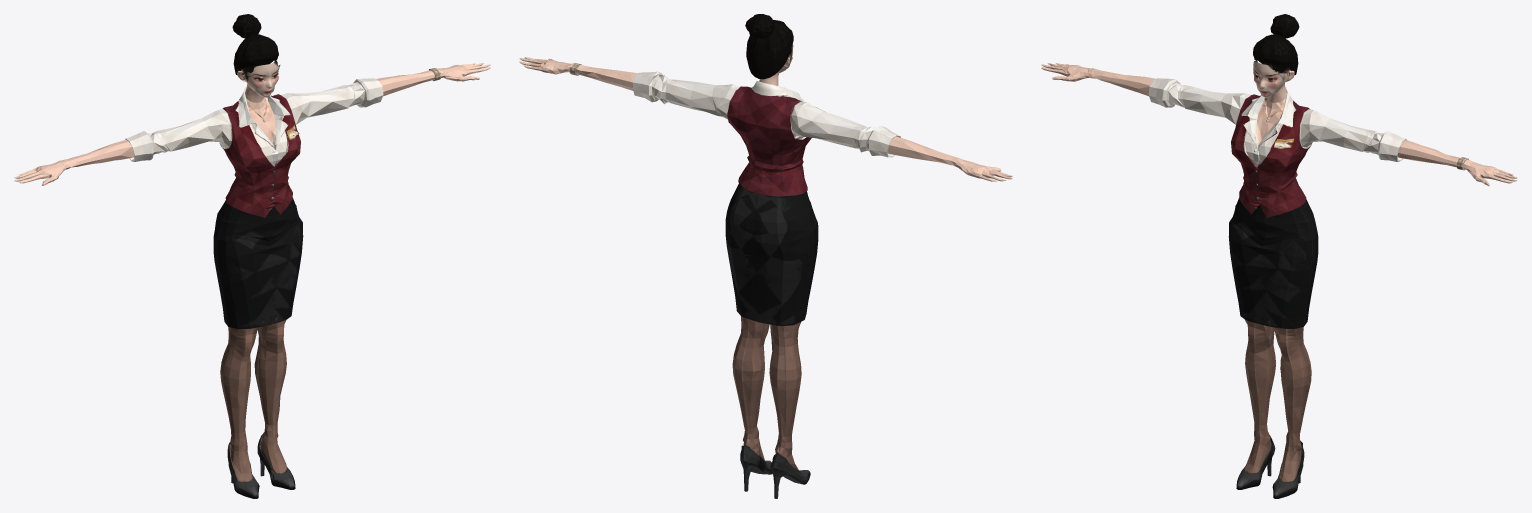
Rendered from Cashier_TPose.glb.
3 renders of one model, left to right at view 1: azimuth 30°, elevation 25°; view 2: azimuth 150°, elevation 25°; view 3: azimuth 330°, elevation 25°, orthographic. The views are drawn at different scales.
Parts seen in each view (by area): view 1: Cashier_TPose; view 2: Cashier_TPose; view 3: Cashier_TPose.
Boxes of the visible parts, bbox=[...] form: Cashier_TPose: bbox=[14, 14, 490, 498]; Cashier_TPose: bbox=[519, 14, 1012, 498]; Cashier_TPose: bbox=[1041, 14, 1517, 498].
Size of the model in its own units: 1.84 by 1.71 by 0.2501.
Materials: 1 (1 with a texture image).
